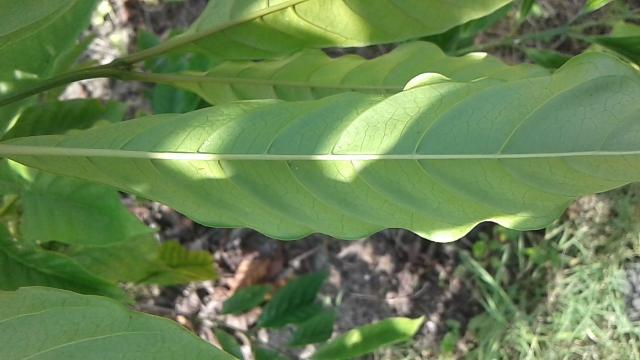healthy: (0, 46, 640, 246)
